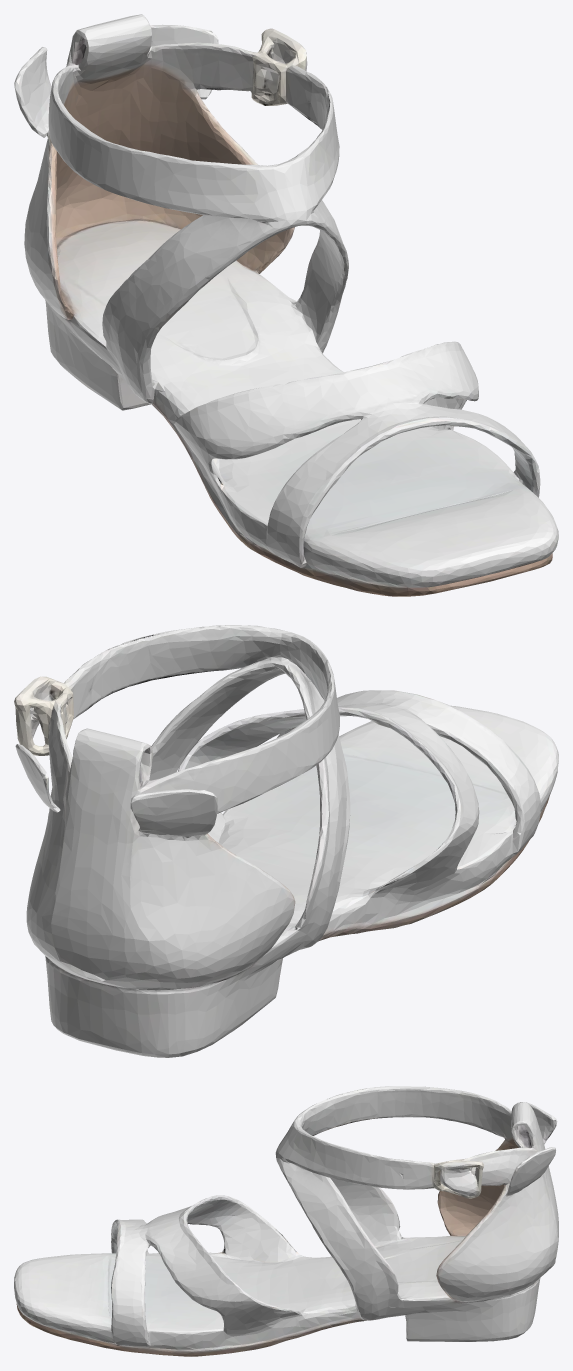
3 views of the same model, one above another, from view 1: azimuth 30°, elevation 25°; view 2: azimuth 150°, elevation 25°; view 3: azimuth 270°, elevation 25° (orthographic). The views are drawn at different scales.
Parts seen in each view (by area): view 1: world; view 2: world; view 3: world.
Boxes of the visible parts, x1,y1,x2,y2 form: world: [14, 14, 558, 596]; world: [14, 625, 558, 1057]; world: [14, 1086, 558, 1356].
Bounding box in the file's own units: 0.3922 × 0.4204 × 1.
1 material, 1 textured.
